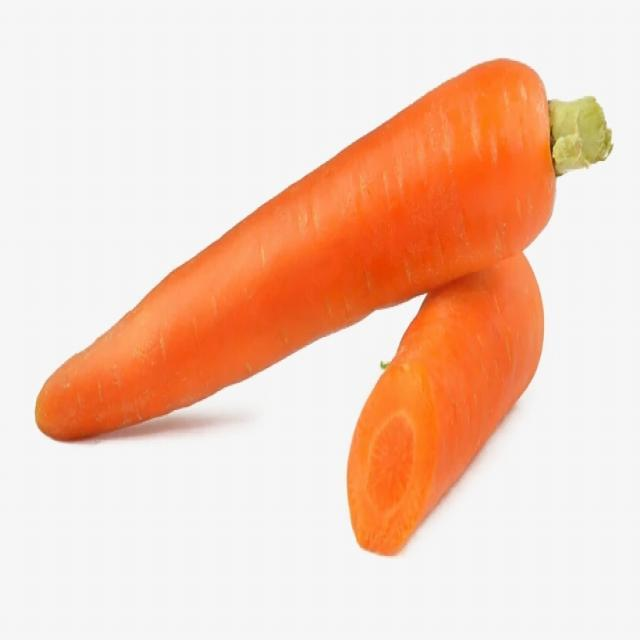Carrot: (33, 61, 554, 444), (348, 250, 544, 550)
